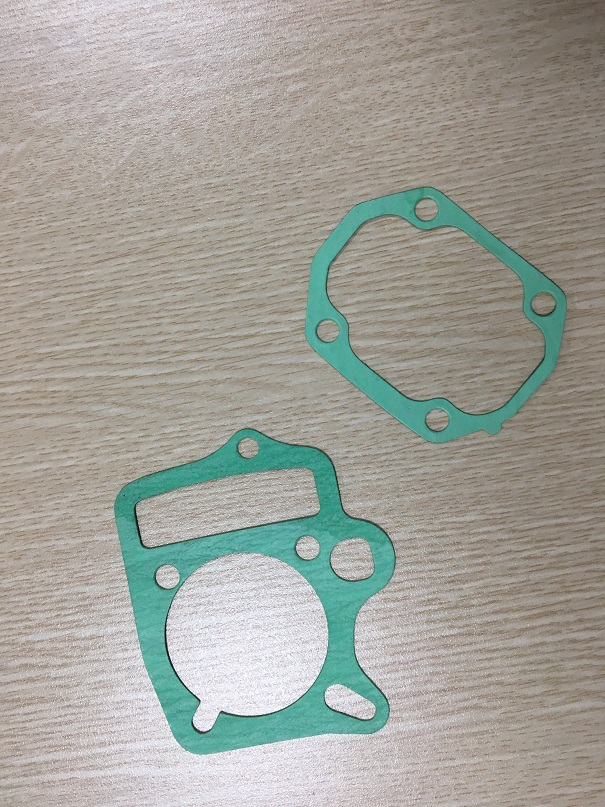type2: (298, 181, 570, 448)
type4: (101, 420, 414, 759)
